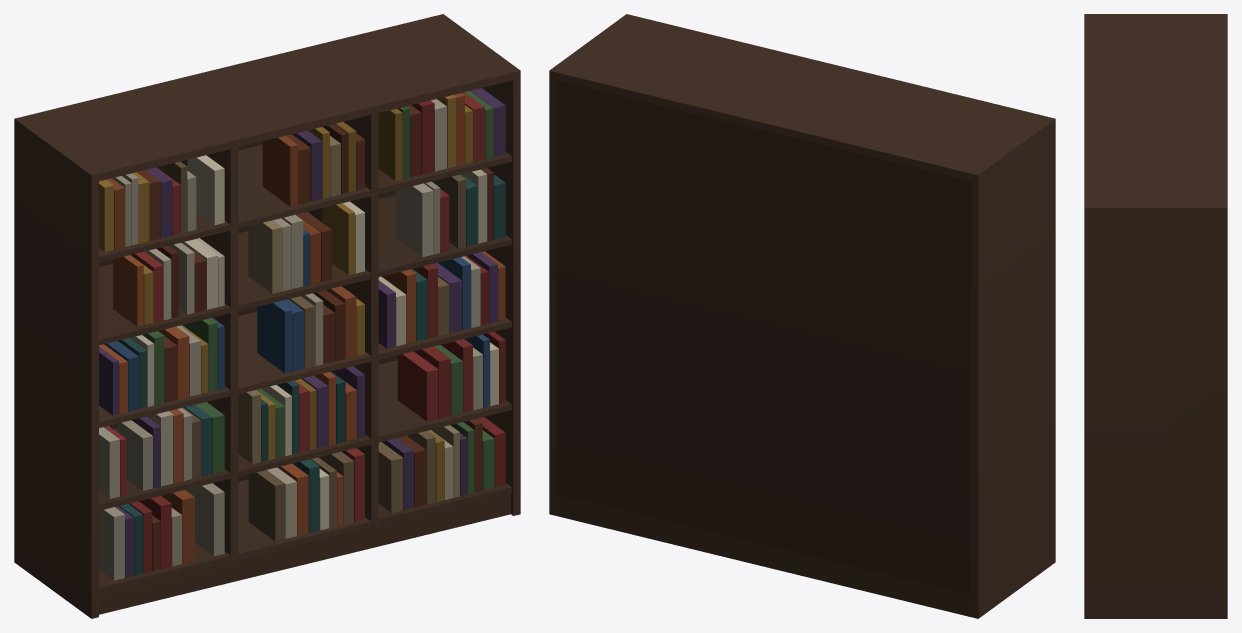
Rendered from bookcase.wide.library.glb.
The picture shows the model from 3 angles, left to right: view 1: azimuth 30°, elevation 25°; view 2: azimuth 150°, elevation 25°; view 3: azimuth 270°, elevation 25°; orthographic projection. The views are drawn at different scales.
Parts seen in each view (by area): view 1: bookcase_wide_library; view 2: bookcase_wide_library; view 3: bookcase_wide_library.
Boxes of the visible parts, bbox=[...] form: bookcase_wide_library: bbox=[14, 14, 520, 618]; bookcase_wide_library: bbox=[549, 14, 1055, 618]; bookcase_wide_library: bbox=[1084, 14, 1227, 618].
Size of what is drawn, in the model's own units: 2.03 by 2 by 0.633.
